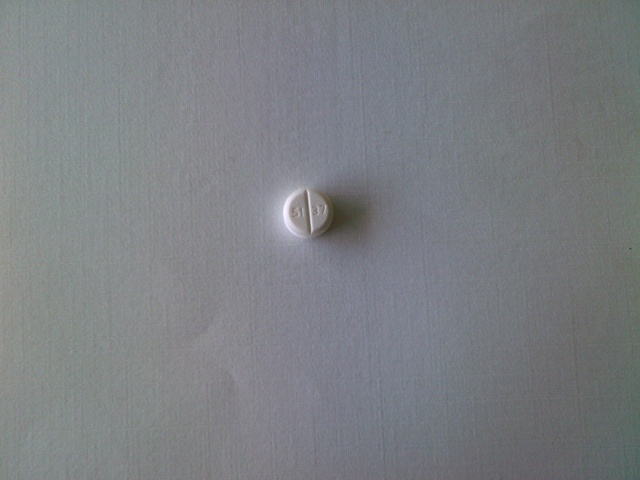1: (298, 207, 305, 219)
3: (310, 204, 318, 217)
5: (289, 205, 300, 221)
7: (319, 202, 328, 217)
|: (302, 187, 314, 239)
